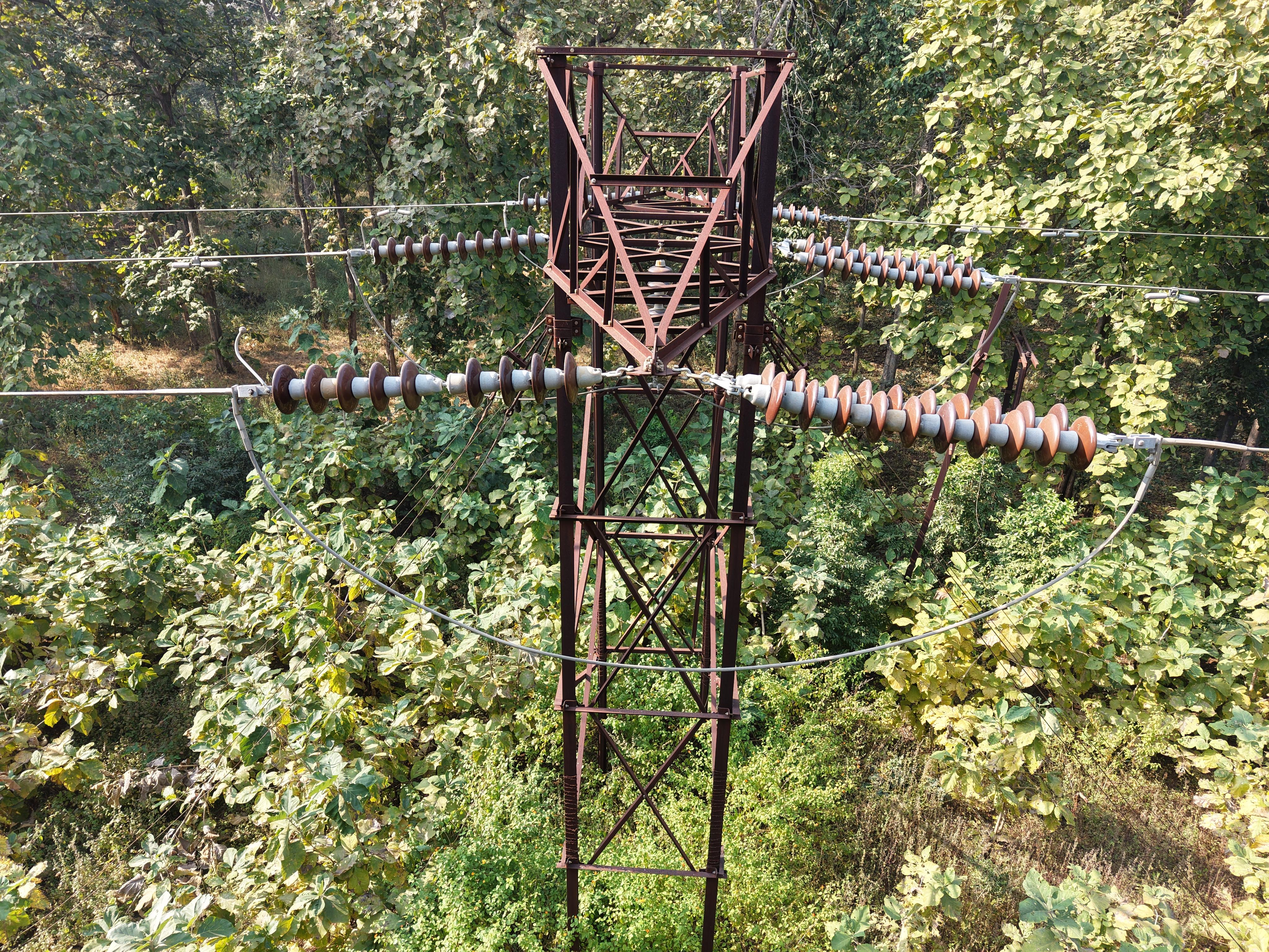broken_insulator: (428, 359, 457, 410), (370, 237, 381, 266), (909, 250, 920, 272)
